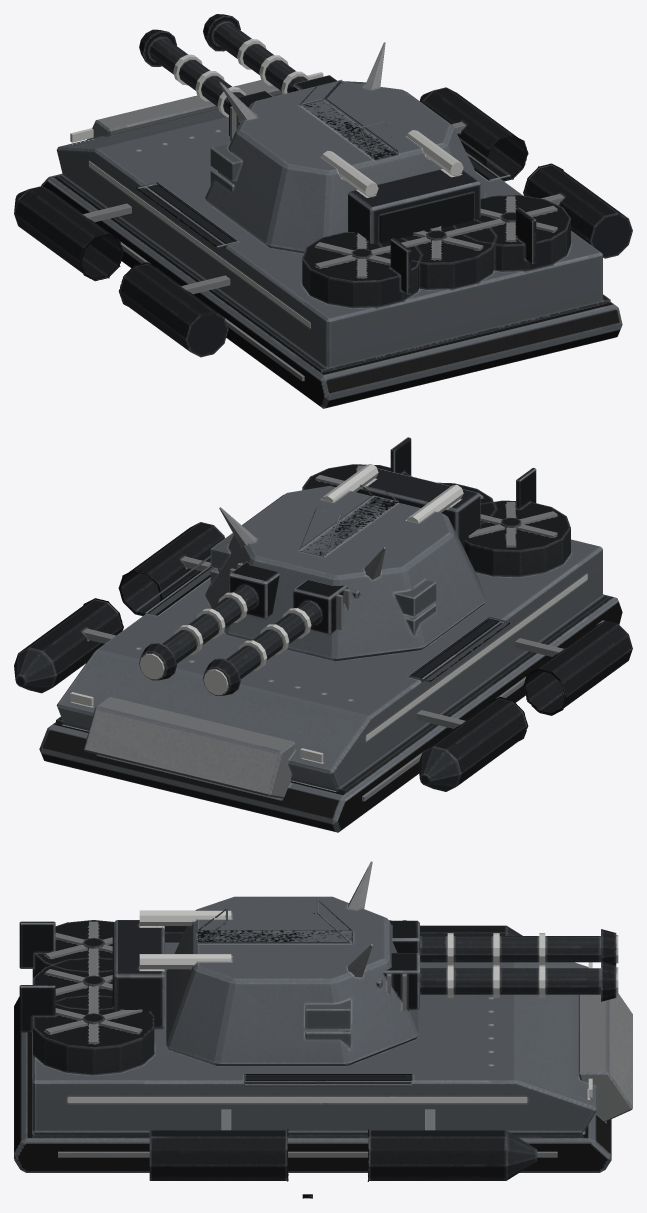
File: chs_typhon.fbx
The picture shows the model from 3 angles, top to bottom: view 1: azimuth 30°, elevation 25°; view 2: azimuth 150°, elevation 25°; view 3: azimuth 270°, elevation 25°; orthographic projection. The views are drawn at different scales.
Parts seen in each view (by area): view 1: base_bar, turret_bar, barrel_bar, turret_glow_weapon_bar, barrel_glow_weapon_bar, base_glow_running_bar, fan1_bar, fan3_bar, fan2_bar; view 2: base_bar, turret_bar, barrel_bar, barrel_glow_weapon_bar, turret_glow_weapon_bar, base_glow_running_bar, fan1_bar; view 3: base_bar, turret_bar, barrel_bar, base_glow_running_bar, turret_glow_weapon_bar, barrel_glow_weapon_bar, fan3_bar, fan1_bar, fan2_bar.
Part boxes in pixels (box(x1,y1,x2,y2)): base_bar: box(14, 80, 632, 408); turret_bar: box(205, 42, 486, 253); barrel_bar: box(139, 14, 343, 140); turret_glow_weapon_bar: box(322, 130, 463, 196); barrel_glow_weapon_bar: box(173, 39, 309, 117); base_glow_running_bar: box(89, 161, 310, 327); fan1_bar: box(315, 233, 408, 278); fan3_bar: box(465, 196, 557, 241); fan2_bar: box(390, 224, 483, 259); base_bar: box(14, 437, 632, 832); turret_bar: box(205, 468, 485, 661); barrel_bar: box(139, 561, 359, 695); barrel_glow_weapon_bar: box(140, 592, 311, 694); turret_glow_weapon_bar: box(322, 464, 463, 523); base_glow_running_bar: box(366, 574, 587, 741); fan1_bar: box(468, 502, 557, 547); base_bar: box(14, 920, 632, 1181); turret_bar: box(112, 861, 418, 1065); barrel_bar: box(352, 920, 616, 1010); base_glow_running_bar: box(68, 1097, 526, 1102); turret_glow_weapon_bar: box(139, 910, 231, 969); barrel_glow_weapon_bar: box(447, 933, 618, 997); fan3_bar: box(45, 1004, 142, 1043); fan1_bar: box(45, 921, 112, 966); fan2_bar: box(45, 966, 112, 1004).
Bounding box in the file's own units: 1054 × 635 × 1214.
Materials: 2 (2 with a texture image).
